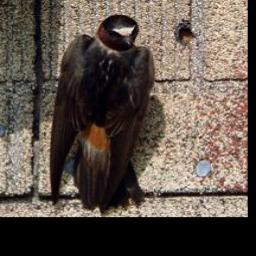Swallow: (46, 13, 154, 215)
